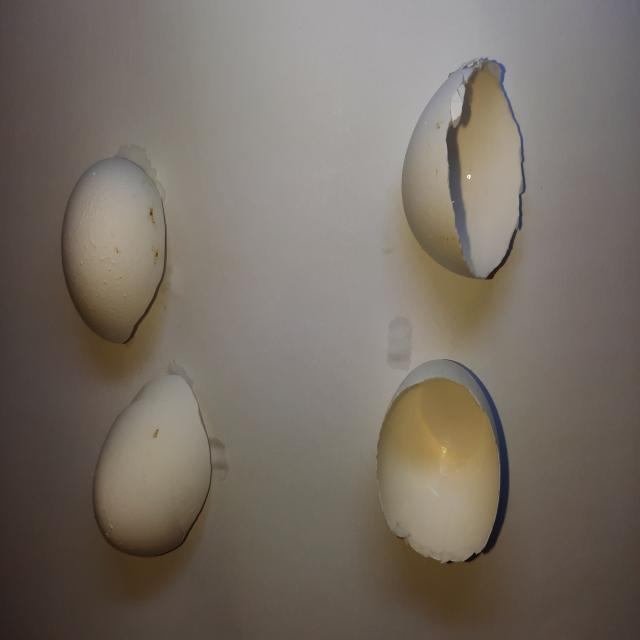egg shell: (394, 52, 526, 286), (369, 348, 506, 570), (84, 368, 215, 562), (58, 147, 170, 350)
